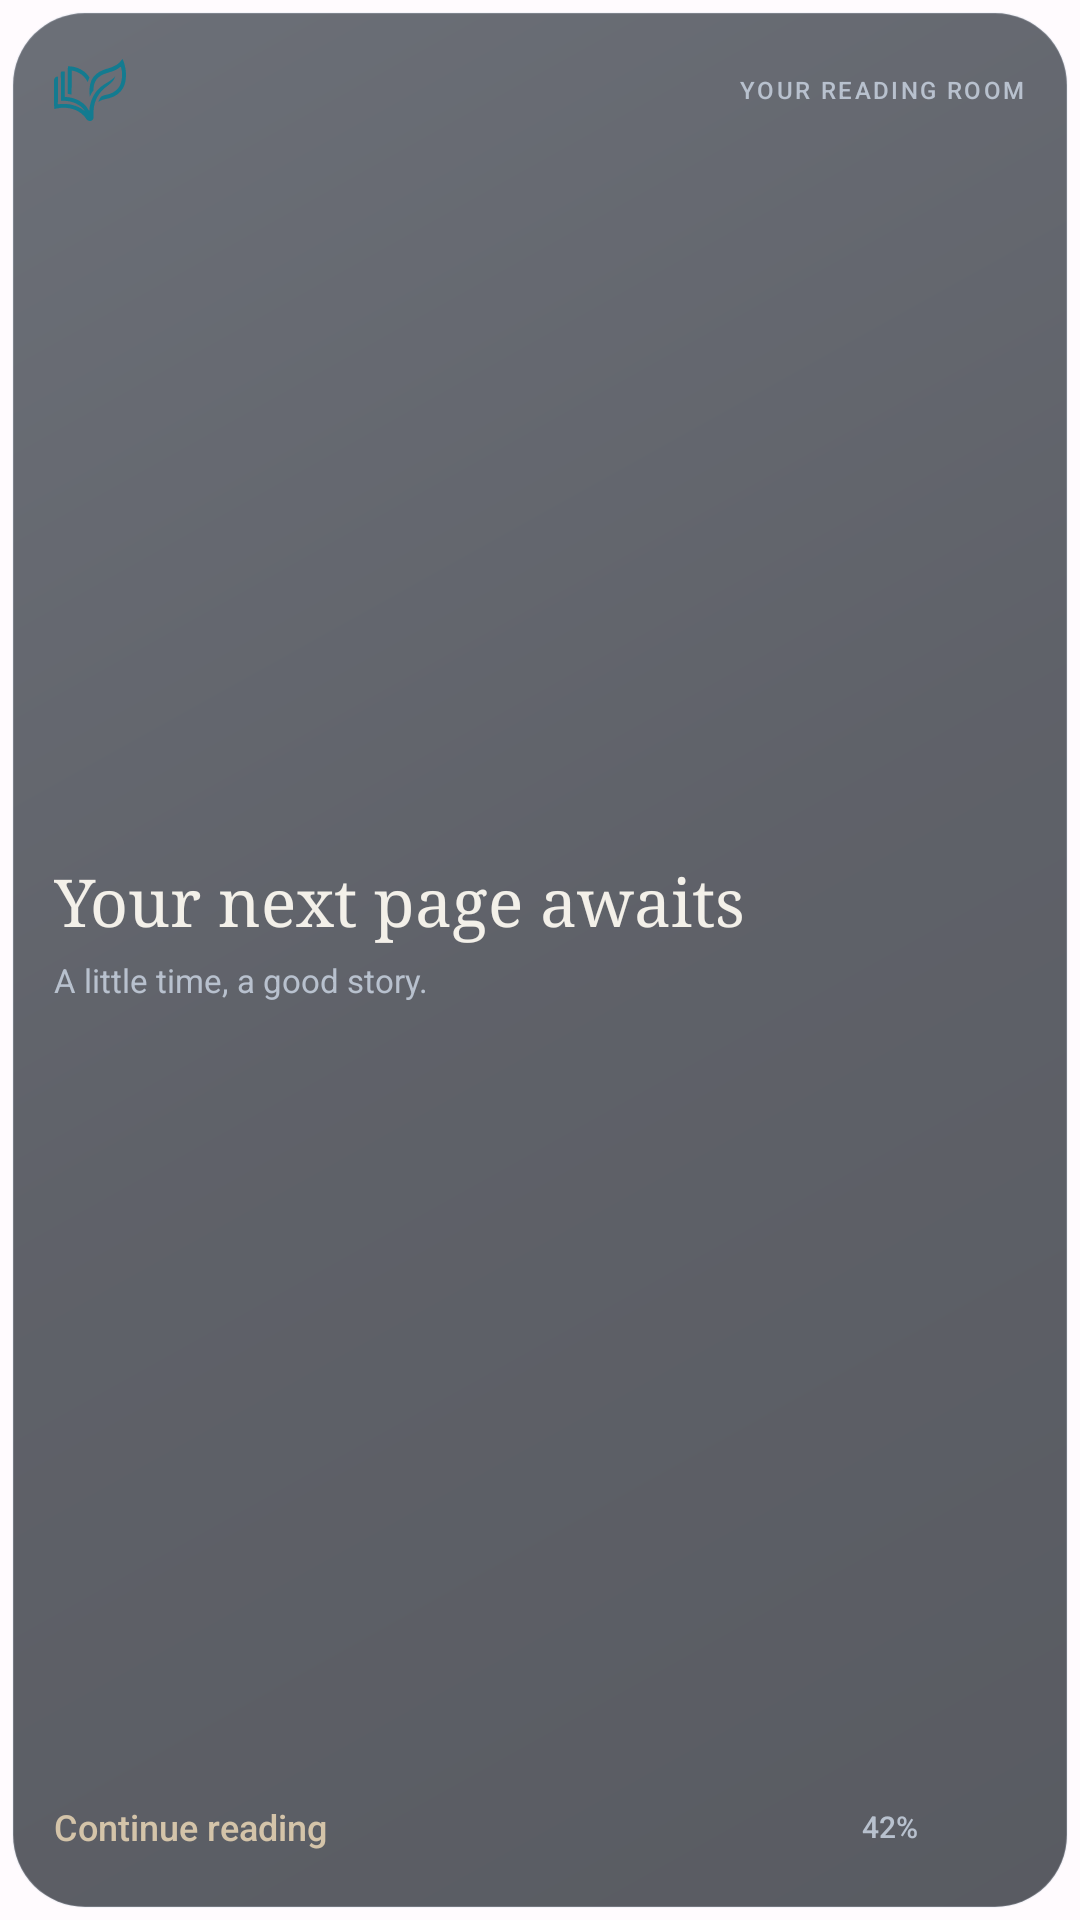

Named icons in this screenshot (1080px×1920px) and their centers, (x=x, y=y):
Folio: (x=90, y=90)
